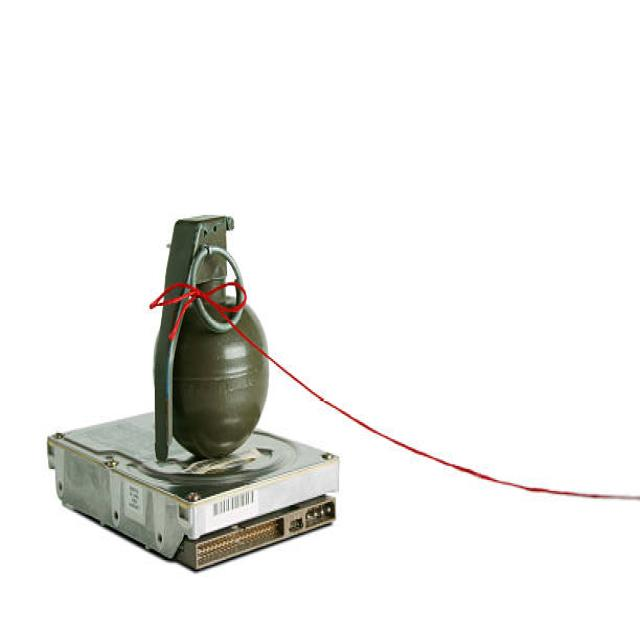grenade: (151, 212, 271, 472)
